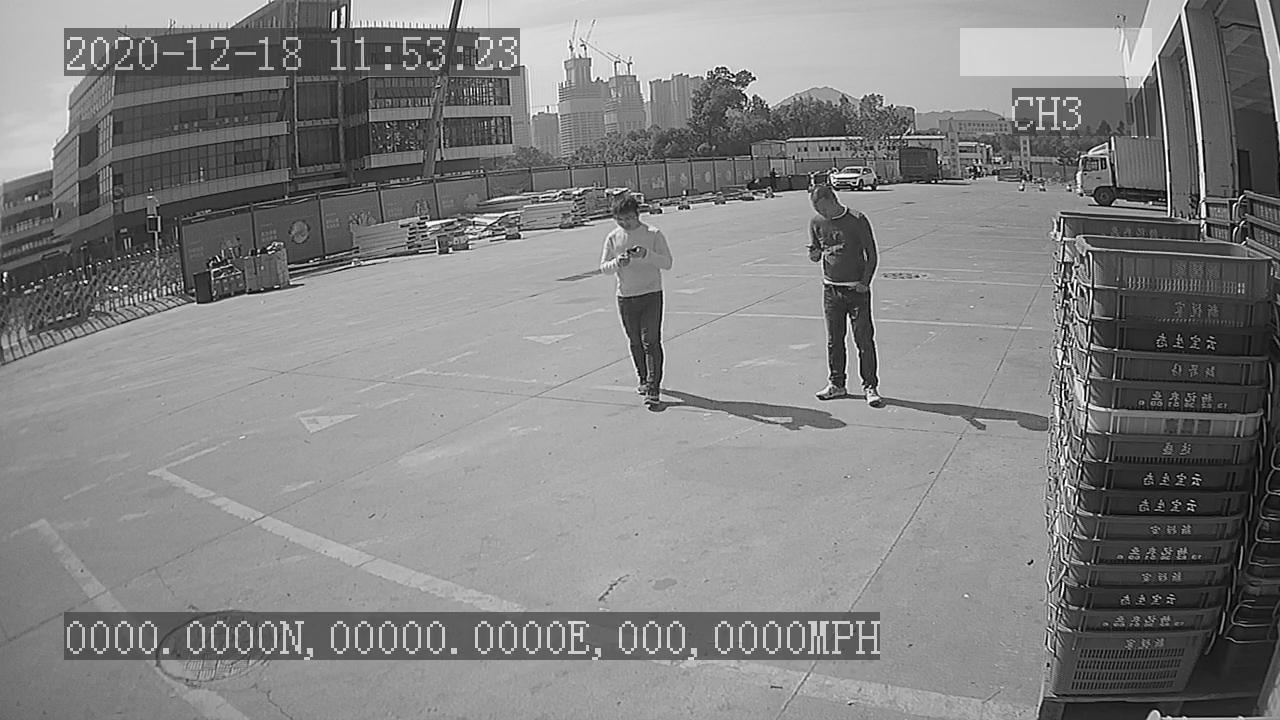person: (793, 177, 893, 410), (588, 186, 677, 419)
